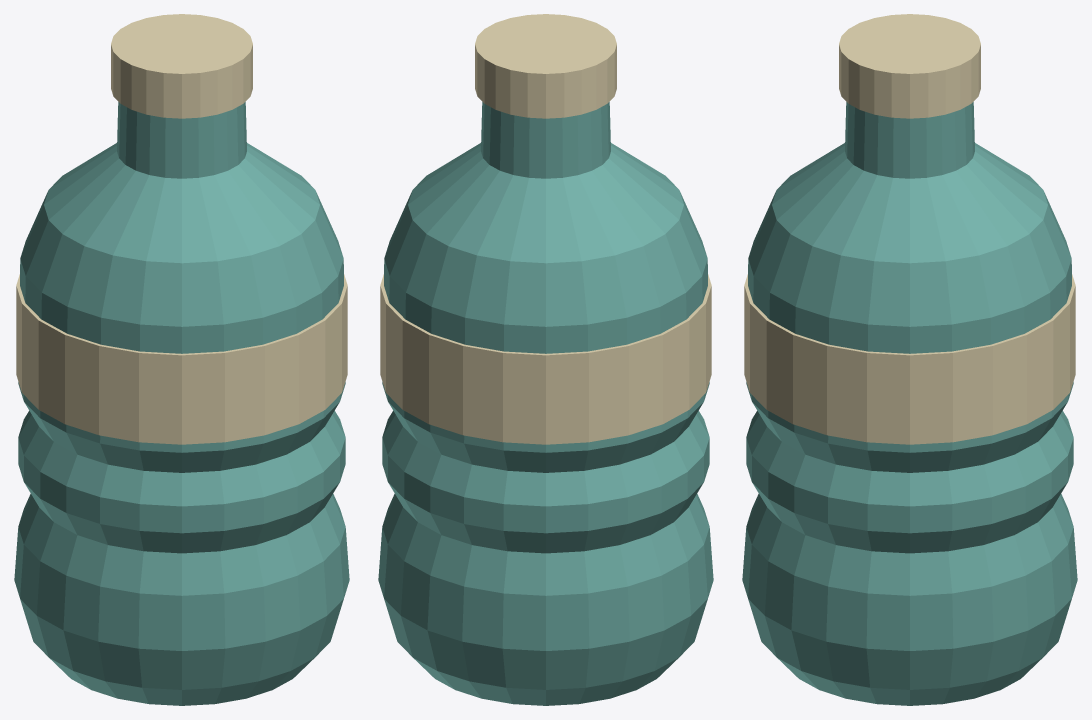
The model's file is litter_bottle.glb.
The picture shows the model from 3 angles, left to right: view 1: azimuth 30°, elevation 25°; view 2: azimuth 150°, elevation 25°; view 3: azimuth 270°, elevation 25°; orthographic projection.
Parts seen in each view (by area): view 1: Bottle body, Bottle label, Bottle cap; view 2: Bottle body, Bottle label, Bottle cap; view 3: Bottle body, Bottle label, Bottle cap.
Part boxes in pixels (bbox=[...]): Bottle body: bbox=[14, 102, 349, 705]; Bottle label: bbox=[16, 274, 347, 444]; Bottle cap: bbox=[111, 14, 252, 118]; Bottle body: bbox=[378, 102, 713, 705]; Bottle label: bbox=[380, 274, 711, 444]; Bottle cap: bbox=[475, 14, 616, 118]; Bottle body: bbox=[742, 102, 1077, 705]; Bottle label: bbox=[744, 274, 1075, 444]; Bottle cap: bbox=[839, 14, 980, 118].
Size of the model in its own units: 0.17 by 0.34 by 0.17.
